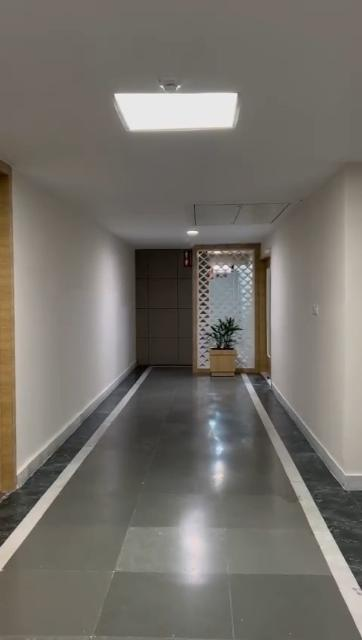door: (0, 165, 14, 495)
floor: (0, 367, 361, 640)
object: (207, 320, 243, 378)
wall: (15, 174, 136, 459), (267, 169, 362, 464)
